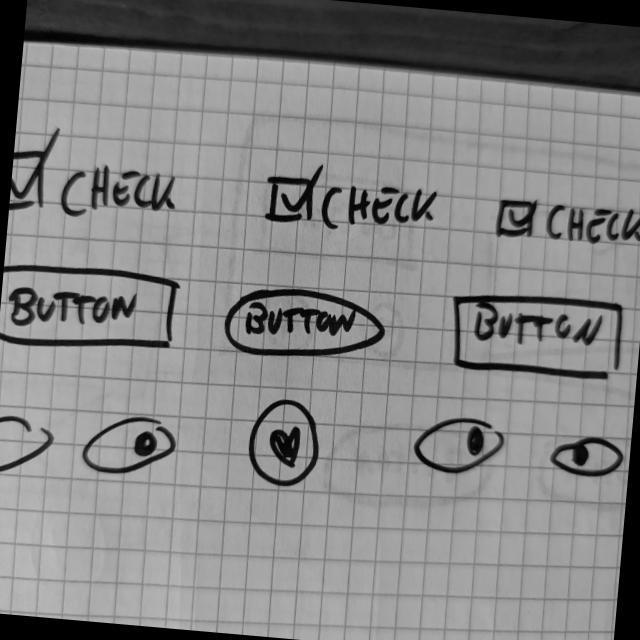button: (444, 283, 630, 389), (1, 258, 181, 364), (222, 280, 393, 371)
checkbox: (9, 141, 188, 235), (262, 158, 444, 248), (490, 190, 640, 259)
icon-button: (243, 391, 330, 492)
toggle: (80, 406, 183, 488), (409, 410, 514, 484), (1, 411, 58, 486), (548, 429, 627, 482)
